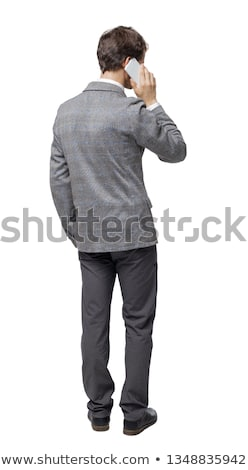phone: (121, 57, 153, 94)
